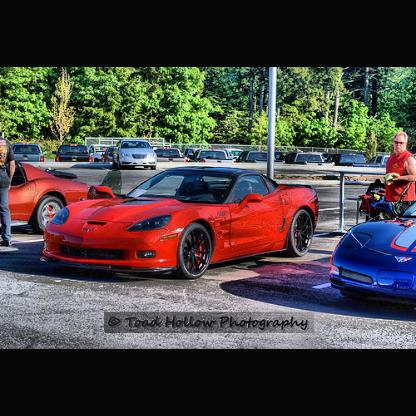Chevrolet Corvette ZR1 2012: (41, 164, 321, 287)
